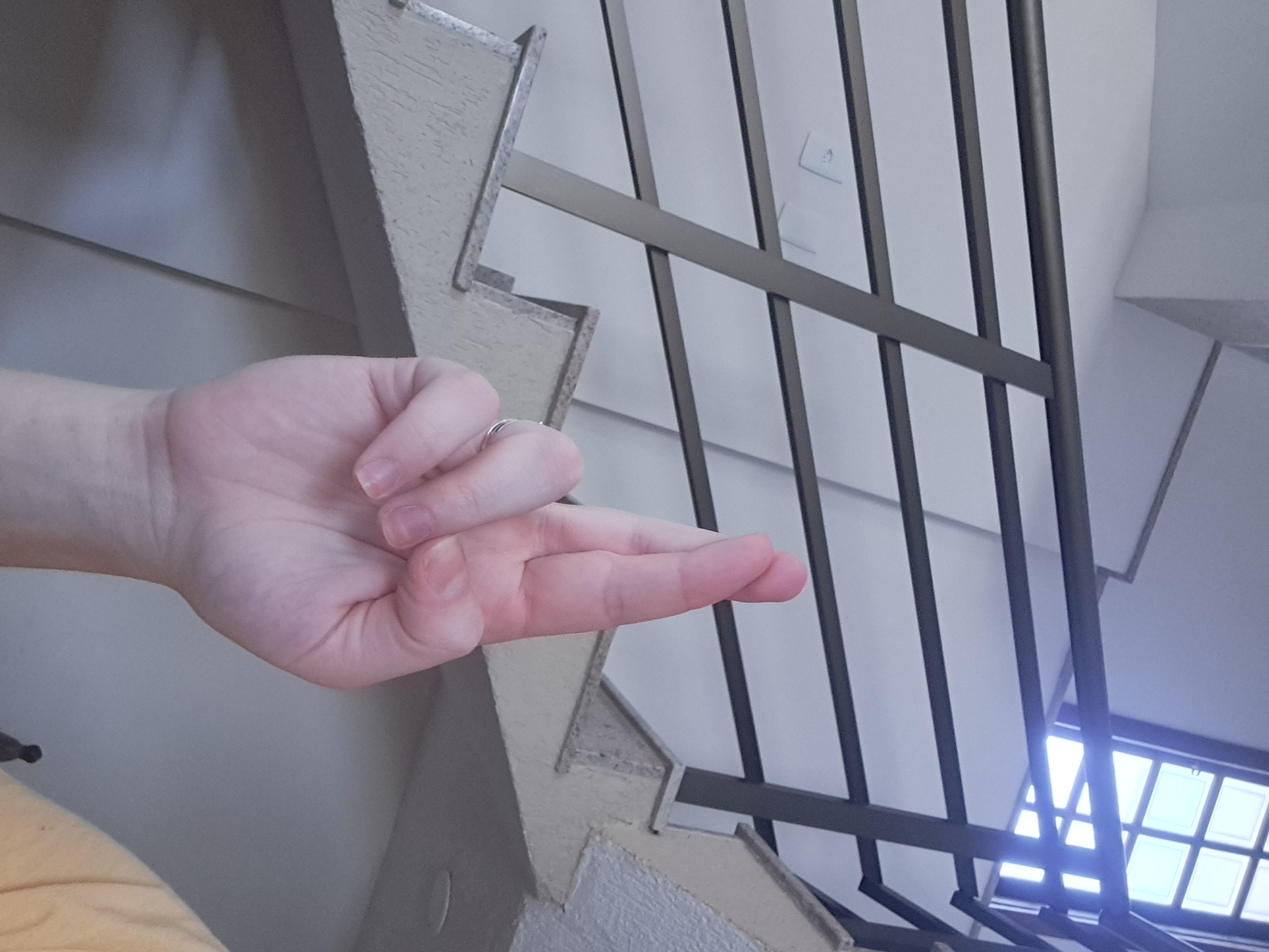R: (435, 338, 949, 837)
